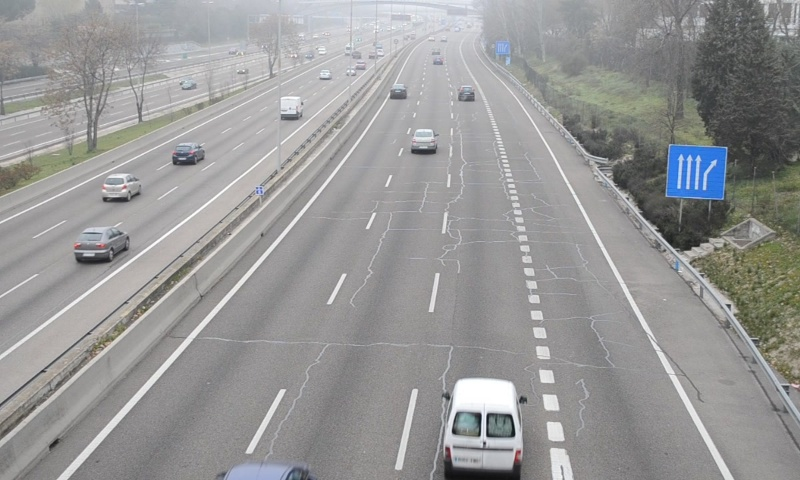car: (411, 128, 436, 151), (457, 84, 476, 102), (390, 84, 408, 100)
van: (442, 378, 524, 480)
